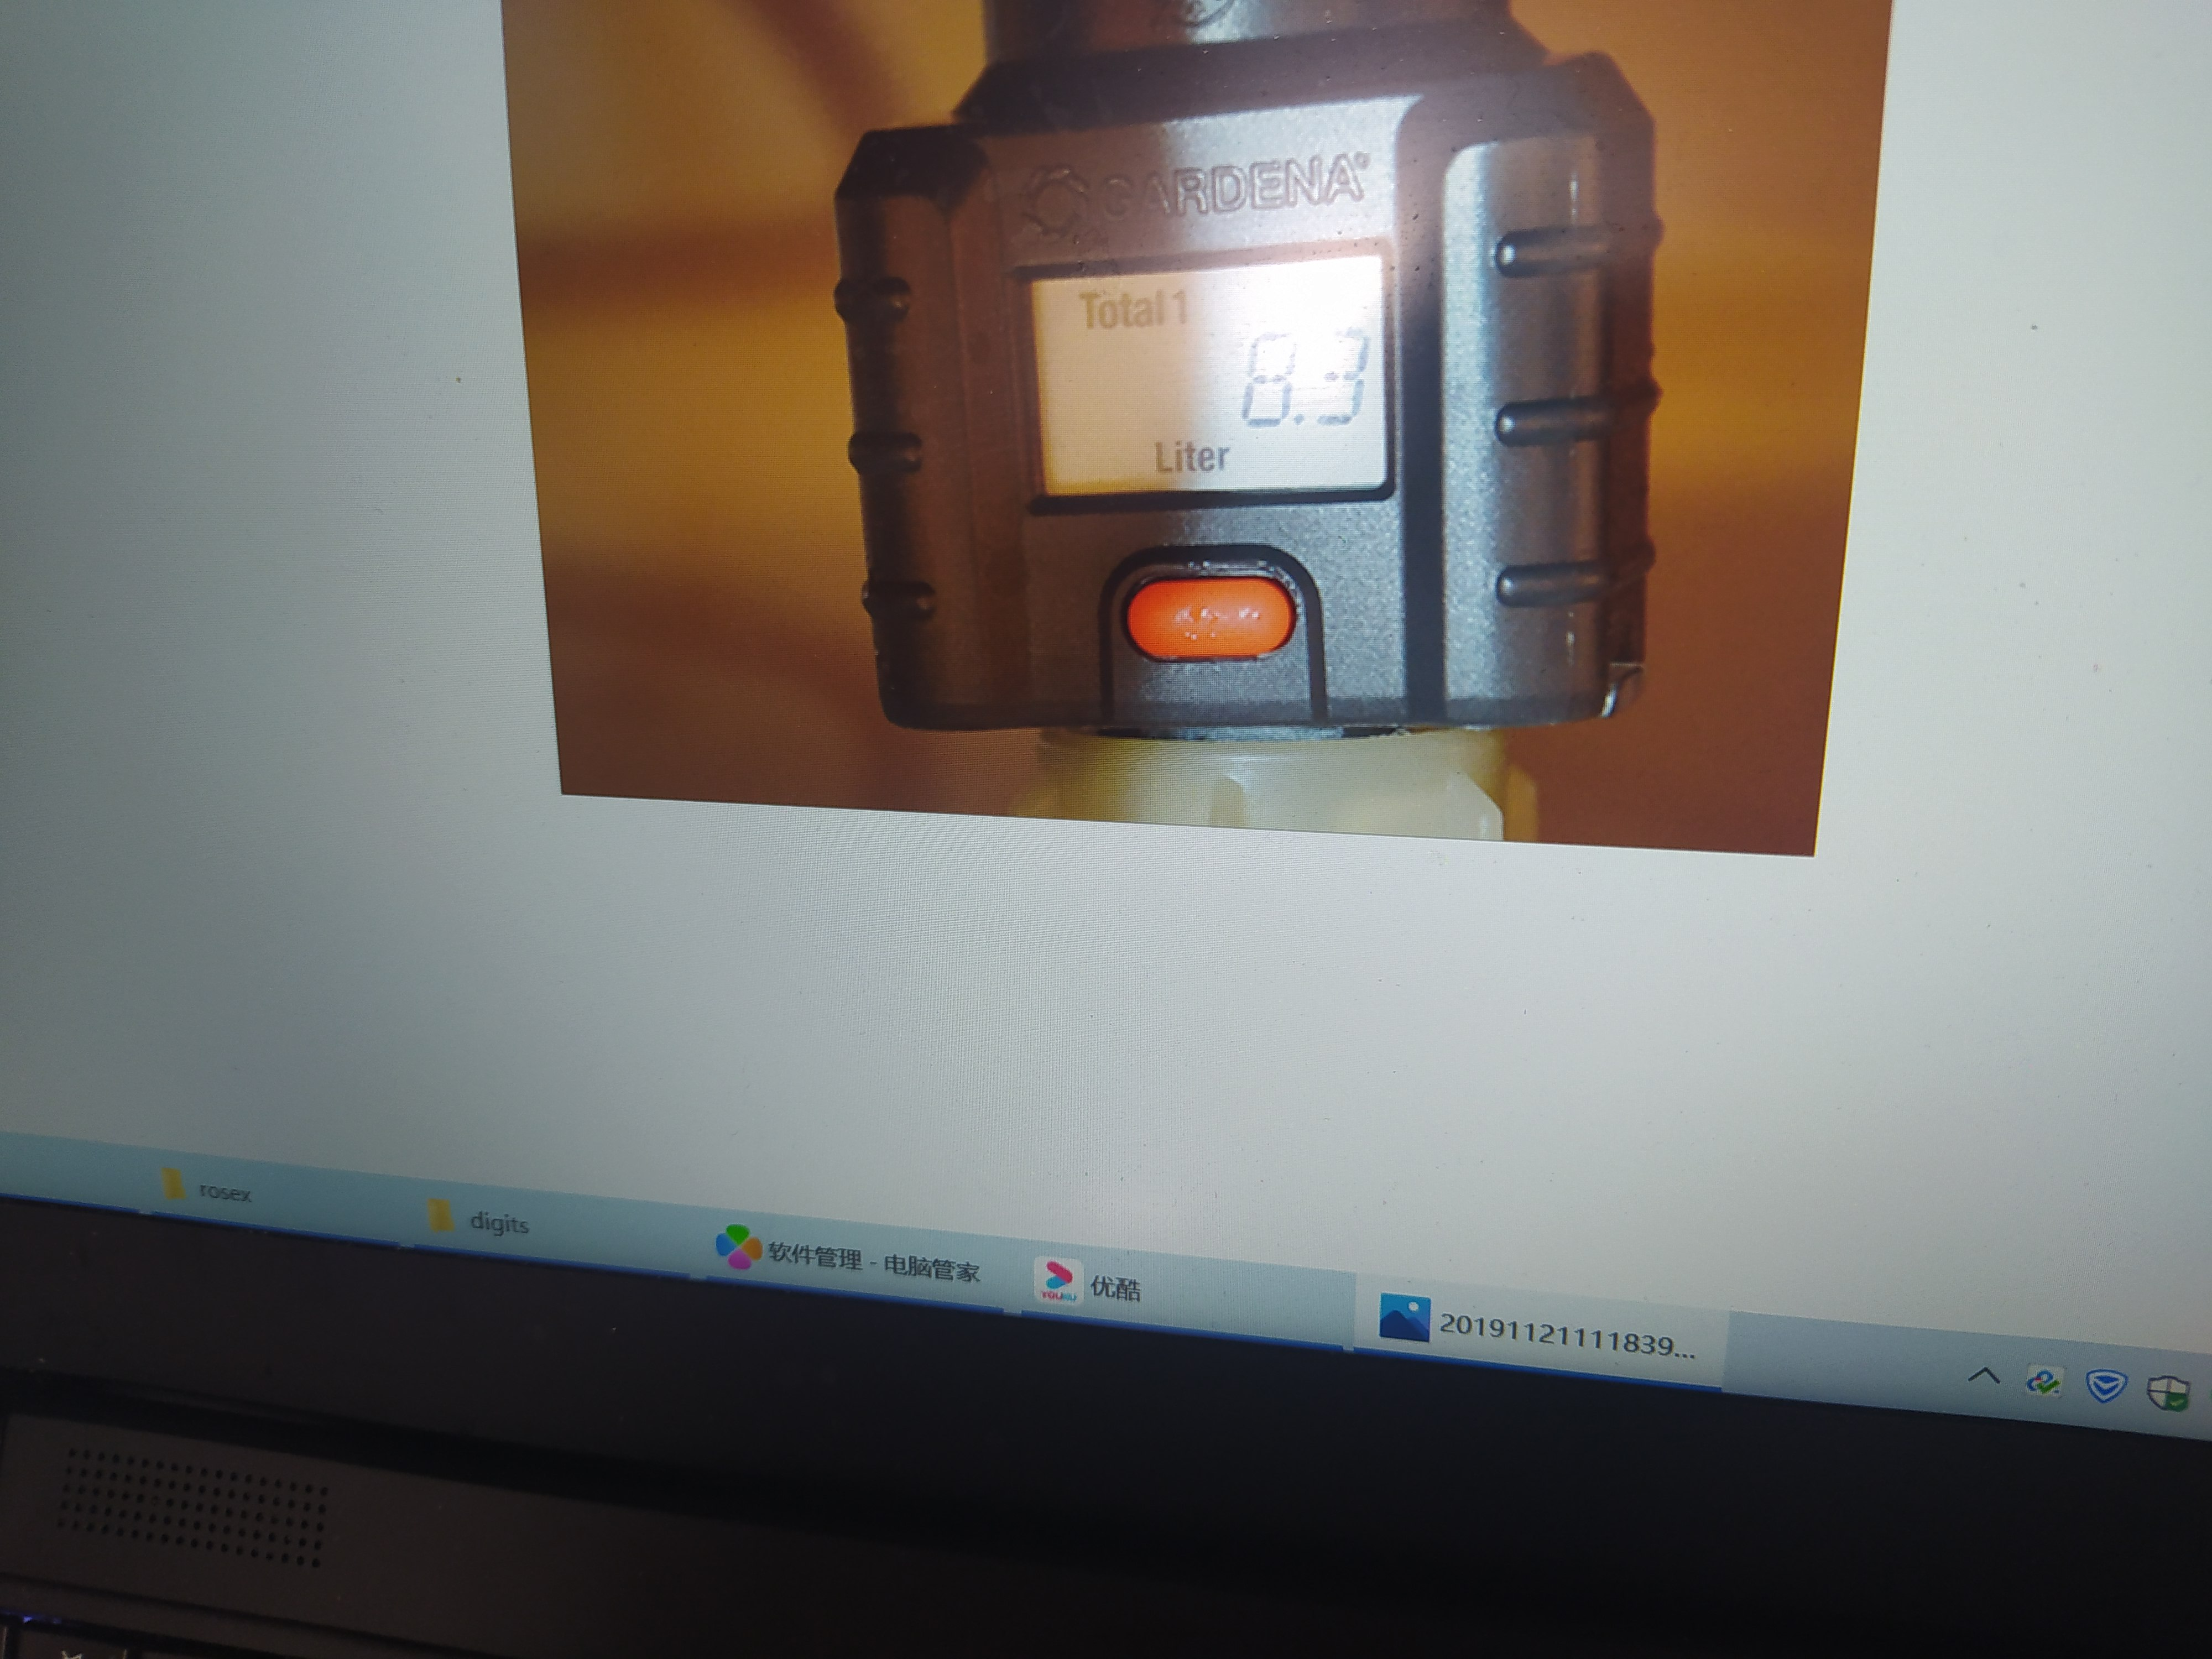.: (1296, 331, 1306, 425)
0: (1456, 1316, 1472, 1335)
1: (1588, 1330, 1601, 1349), (1608, 1331, 1618, 1352), (1474, 1317, 1484, 1337), (1507, 1321, 1517, 1340), (1557, 1326, 1568, 1345), (1573, 1328, 1583, 1347), (1524, 1323, 1533, 1342)
2: (1439, 1312, 1456, 1333), (1540, 1323, 1554, 1344)
3: (1317, 329, 1371, 425), (1639, 1335, 1655, 1354)
8: (1240, 329, 1296, 429), (1623, 1331, 1639, 1352)
9: (1489, 1317, 1505, 1338), (1658, 1337, 1674, 1356)
